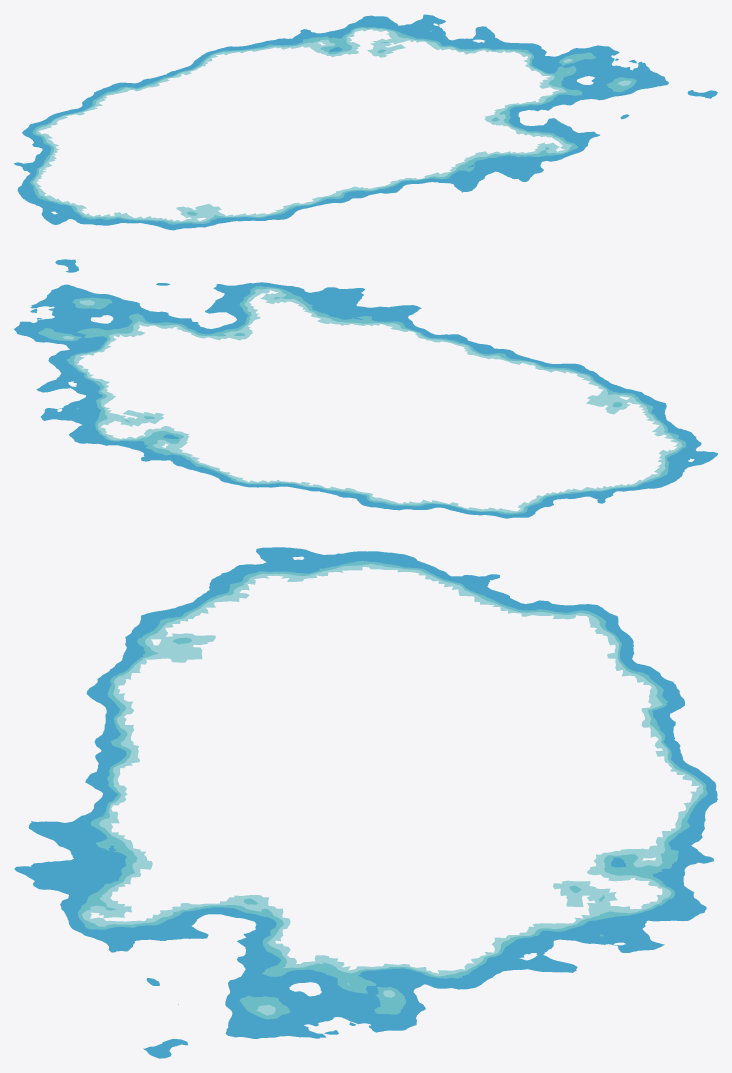
Rendered from Isl-bot2-Water.fbx.
The picture shows the model from 3 angles, top to bottom: view 1: azimuth 30°, elevation 25°; view 2: azimuth 150°, elevation 25°; view 3: azimuth 270°, elevation 25°; orthographic projection. The views are drawn at different scales.
Visible parts, largest first — view 1: Isl-bot2-Water; view 2: Isl-bot2-Water; view 3: Isl-bot2-Water.
Boxes of the visible parts, left/top/right/bottom form: Isl-bot2-Water: left=14, top=14, right=717, bottom=230; Isl-bot2-Water: left=14, top=259, right=717, bottom=518; Isl-bot2-Water: left=14, top=547, right=717, bottom=1058.
Bounding box in the file's own units: 178 × 0 × 103.
